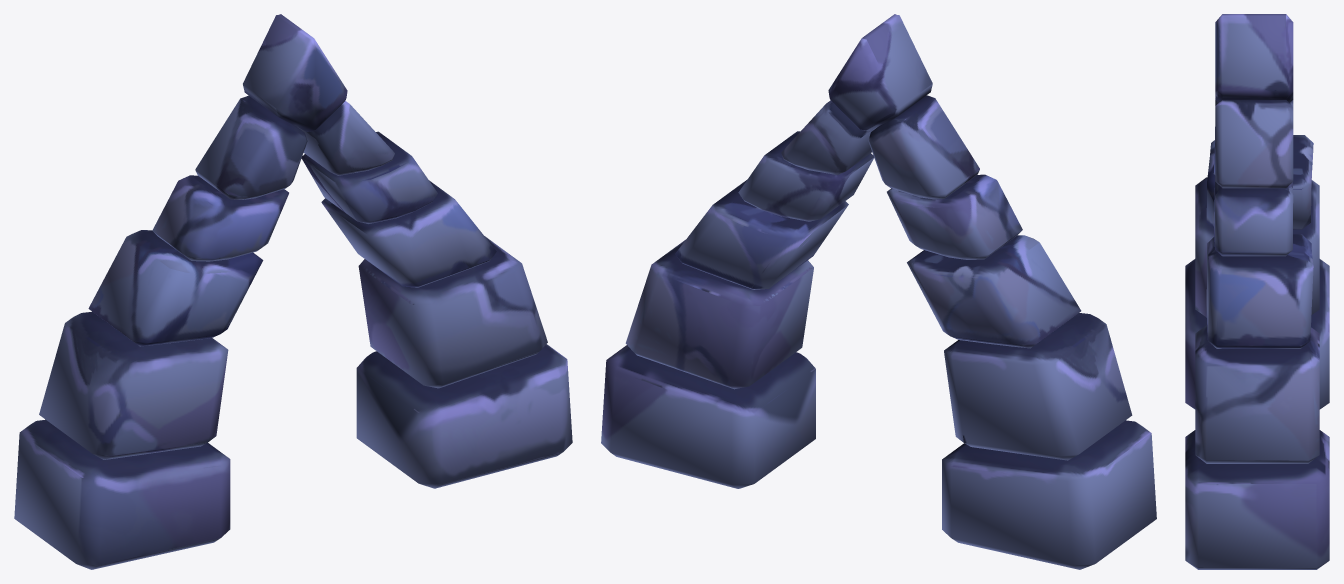
The model's file is SM_StoneGateSEPARATED_01.fbx.
3 renders of one model, left to right at view 1: azimuth 30°, elevation 25°; view 2: azimuth 150°, elevation 25°; view 3: azimuth 270°, elevation 25°, orthographic. The views are drawn at different scales.
Visible parts, largest first — view 1: 01L, 01R, 02L, 02R, 03L, 03R, 04L, 05L, Top, 04R, 05R; view 2: 01L, 01R, 02L, 02R, 03L, 03R, 05L, 04L, Top, 04R, 05R; view 3: 01R, 02R, 03R, 05R, Top, 04R, 01L, 02L, 03L.
Boxes of the visible parts, box(x1,y1,x2,y2) form: 01L: box(14, 419, 230, 569); 01R: box(356, 344, 572, 488); 02L: box(39, 311, 228, 459); 02R: box(358, 236, 547, 388); 03L: box(88, 230, 263, 346); 03R: box(321, 180, 496, 287); 04L: box(152, 175, 288, 261); 05L: box(195, 95, 307, 199); Top: box(243, 14, 347, 131); 04R: box(301, 131, 437, 223); 05R: box(297, 100, 394, 175); 01L: box(942, 420, 1156, 569); 01R: box(601, 345, 815, 488); 02L: box(944, 313, 1132, 460); 02R: box(625, 239, 813, 389); 03L: box(907, 235, 1081, 348); 03R: box(675, 179, 848, 289); 05L: box(868, 95, 979, 199); 04L: box(887, 174, 1022, 259); Top: box(828, 14, 932, 131); 04R: box(738, 131, 874, 221); 05R: box(781, 100, 877, 174); 01R: box(1185, 430, 1329, 569); 02R: box(1195, 325, 1319, 463); 03R: box(1206, 234, 1313, 348); 05R: box(1215, 100, 1293, 188); Top: box(1215, 14, 1293, 102); 04R: box(1213, 176, 1293, 256); 01L: box(1185, 259, 1329, 409); 02L: box(1195, 177, 1319, 317); 03L: box(1206, 135, 1313, 229).
Bounding box in the file's own units: 347 × 313 × 91.32.
